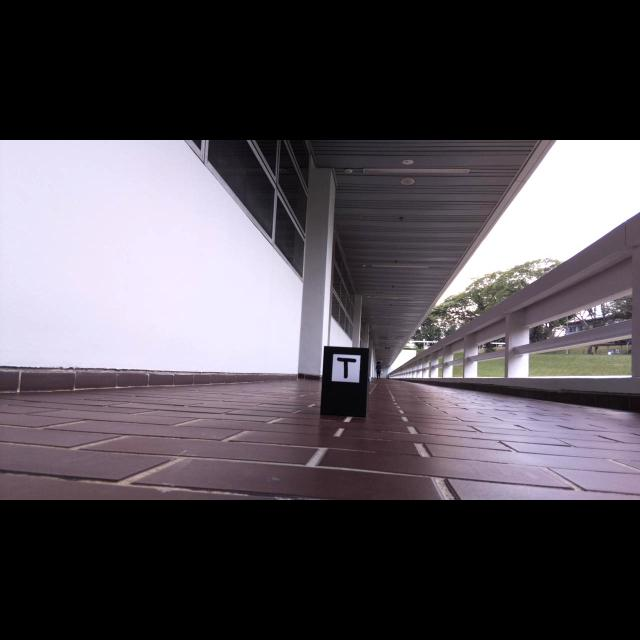T: (337, 358, 357, 379)
